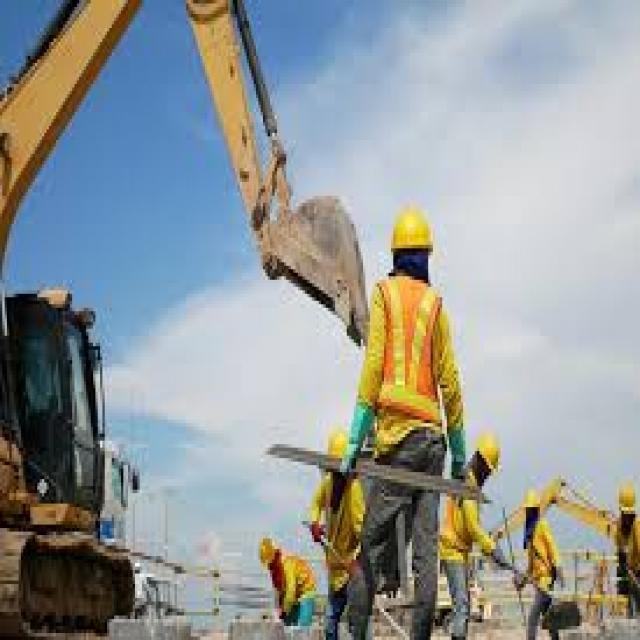Reflective-Jacket: (347, 269, 470, 469), (307, 469, 377, 605), (430, 465, 496, 581), (514, 518, 564, 602), (268, 549, 321, 619)
Safety-Helmet: (380, 192, 444, 270), (312, 409, 365, 486), (468, 412, 510, 482), (251, 528, 282, 574), (614, 472, 638, 525), (519, 479, 547, 521)
